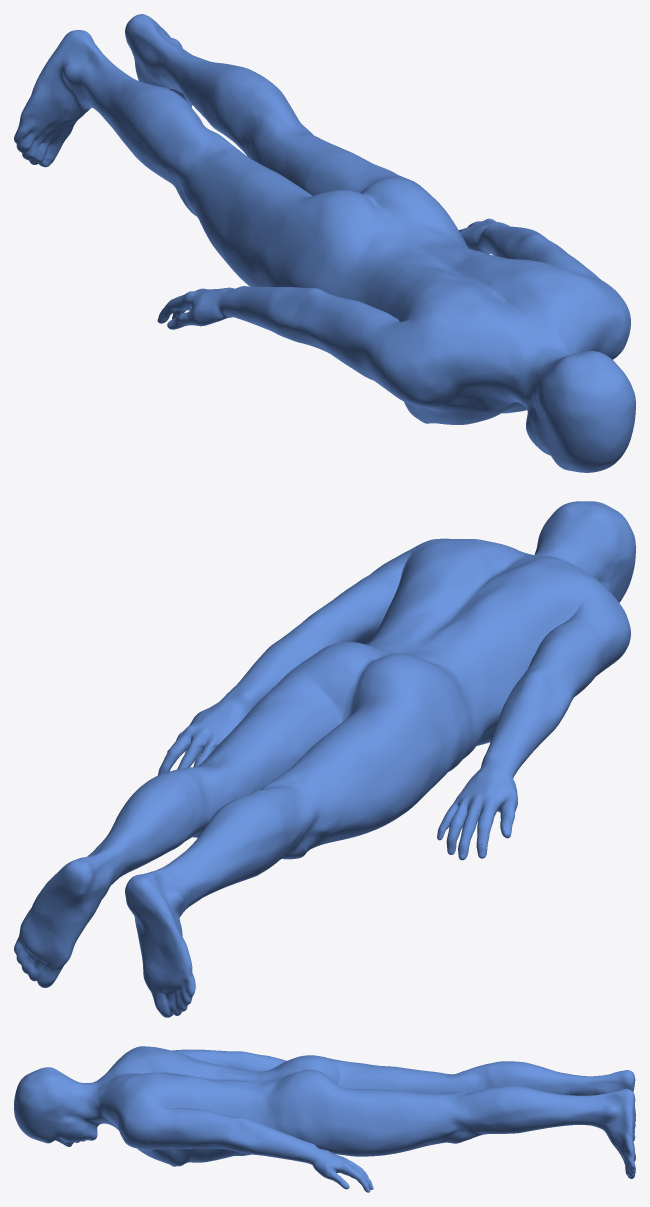
File: skin.glb
3 renders of one model, top to bottom at view 1: azimuth 30°, elevation 25°; view 2: azimuth 150°, elevation 25°; view 3: azimuth 270°, elevation 25°, orthographic. The views are drawn at different scales.
Parts seen in each view (by area): view 1: skin; view 2: skin; view 3: skin.
Boxes of the visible parts, x1=… form: skin: x1=14, y1=14, x2=635, y2=472; skin: x1=14, y1=501, x2=635, y2=1017; skin: x1=14, y1=1046, x2=635, y2=1192.
Size of the model in its own units: 667 by 292 by 1719.
